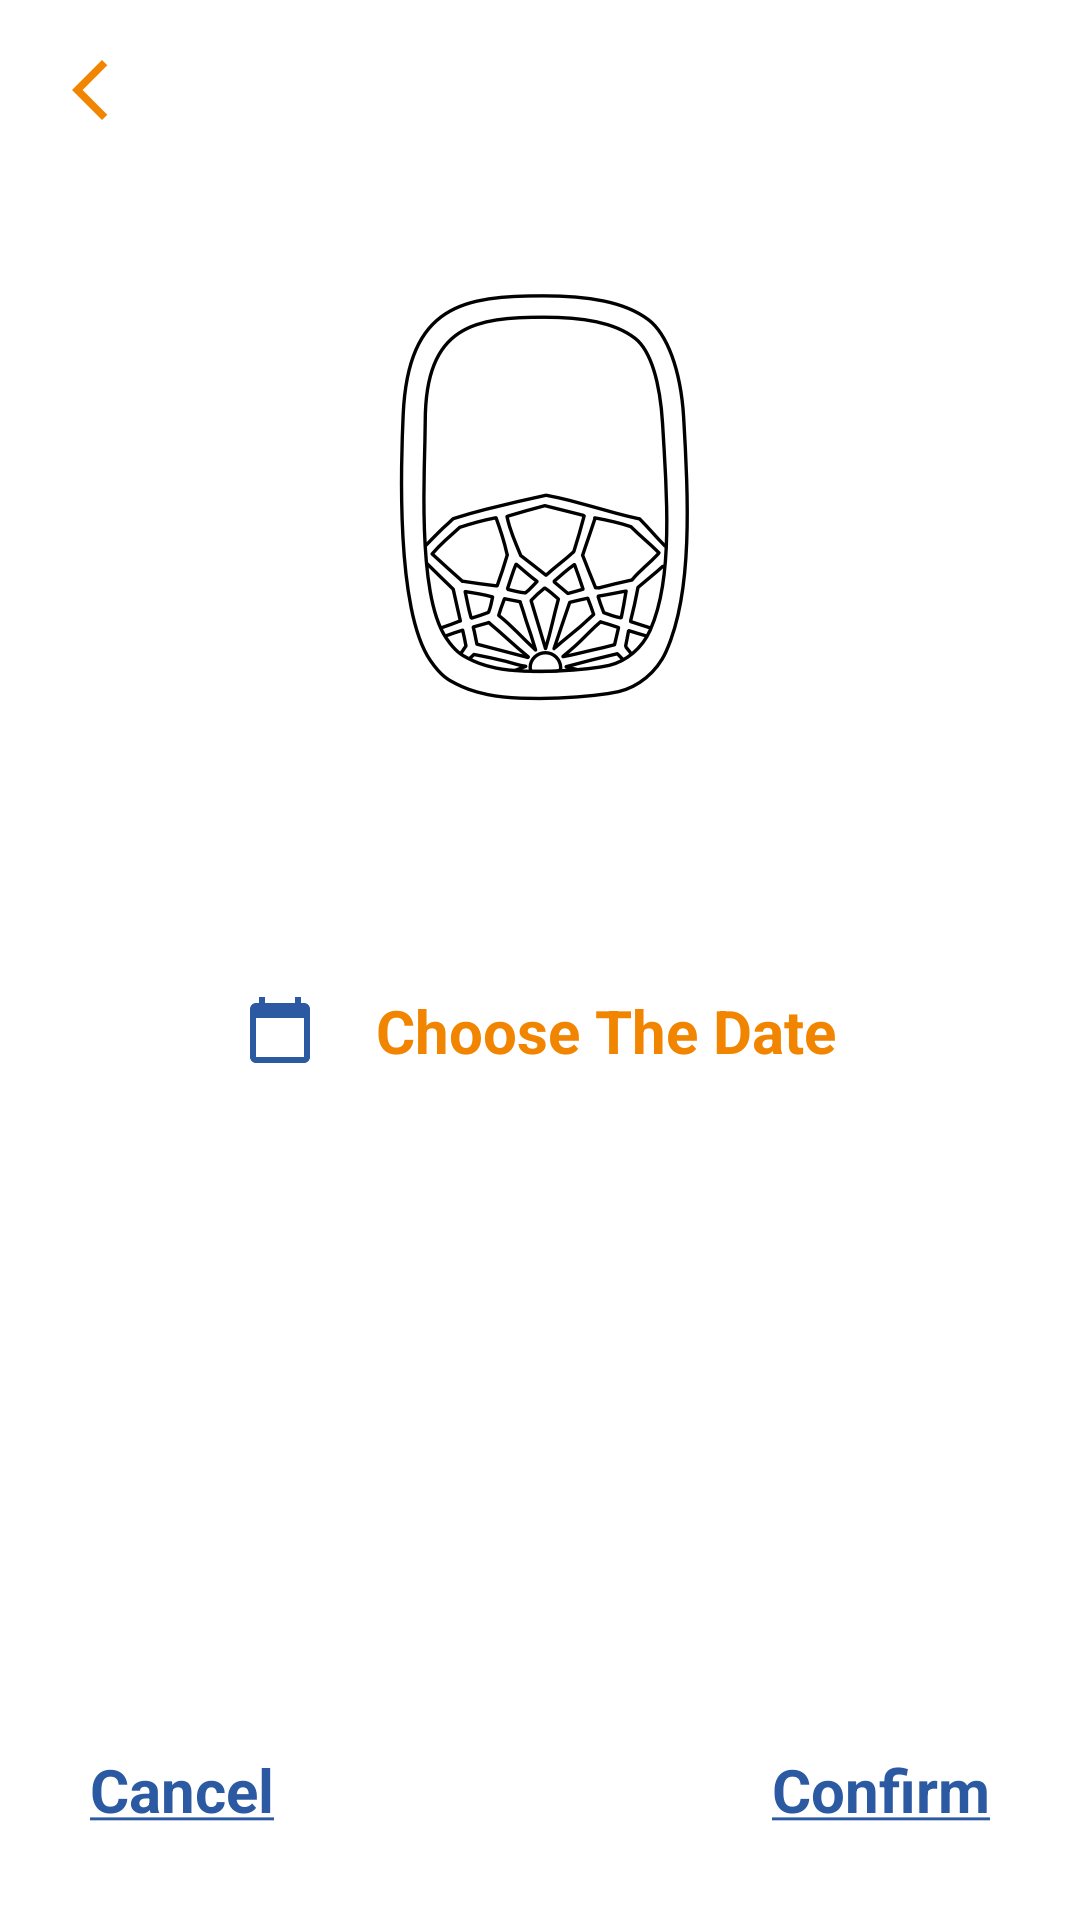

Icon bounding boxes for this 1080×1920 phone screenshot, format rect(x1, y1, x2, y2):
back: rect(72, 60, 107, 120)
